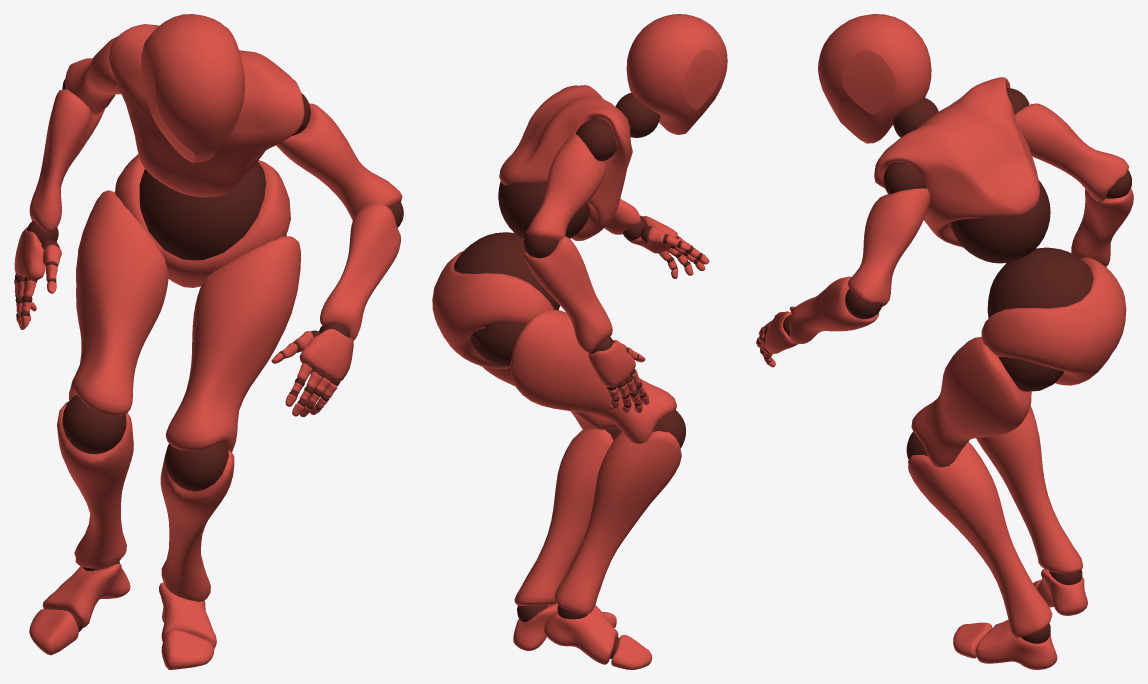
3 renders of one model, left to right at view 1: azimuth 30°, elevation 25°; view 2: azimuth 150°, elevation 25°; view 3: azimuth 270°, elevation 25°, orthographic. The views are drawn at different scales.
Visible parts, largest first — view 1: Beta_Surface, Beta_Joints; view 2: Beta_Surface, Beta_Joints; view 3: Beta_Surface, Beta_Joints.
Part boxes in pixels (x1,y1,x2,y2): Beta_Surface: (14,14,402,669); Beta_Joints: (15,79,403,631); Beta_Surface: (432,14,727,669); Beta_Joints: (454,93,702,658); Beta_Surface: (756,14,1133,669); Beta_Joints: (757,88,1131,643).
Bounding box in the file's own units: 0.5889 × 1.45 × 0.8083.
